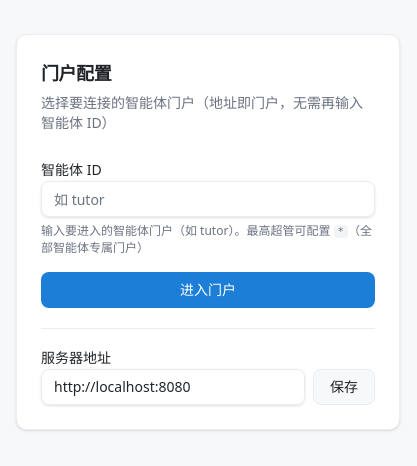
Test case: PortalConfigPage › 非法 ID（含特殊字符）给出具体错误提示
Type "bad id!" into the field labelled "智能体 ID" at (208, 199), box left=41, top=181, right=375, bottom=217
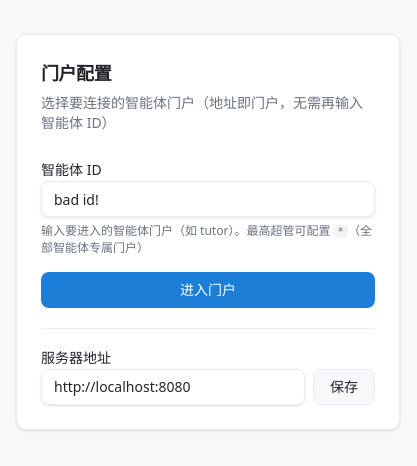
Click the button "进入门户" at (208, 290), box left=41, top=272, right=375, bottom=308
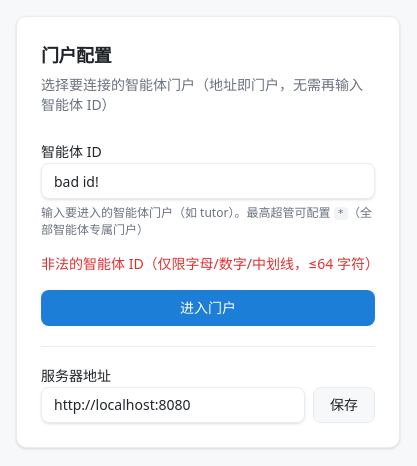
Now the message shows "非法的智能体 ID", box left=41, top=254, right=379, bottom=273
